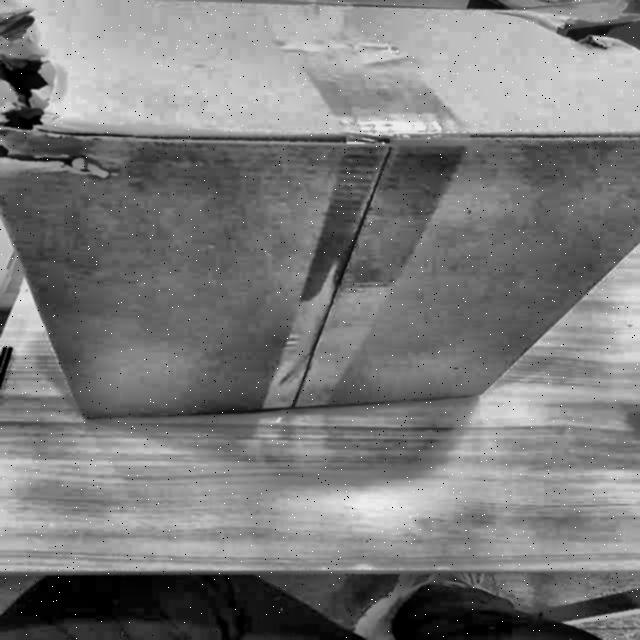box: (0, 0, 639, 435)
hole: (6, 54, 83, 176)
